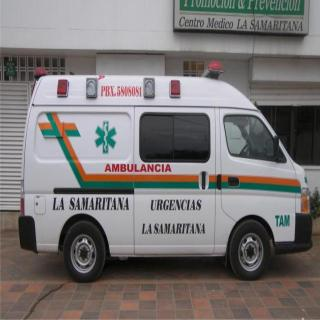Ambulance: (14, 38, 316, 300)
